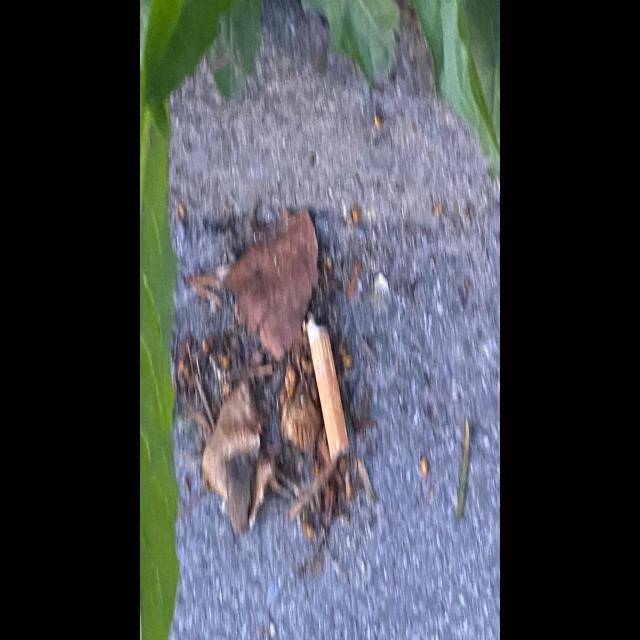other waste: (306, 308, 350, 464)
